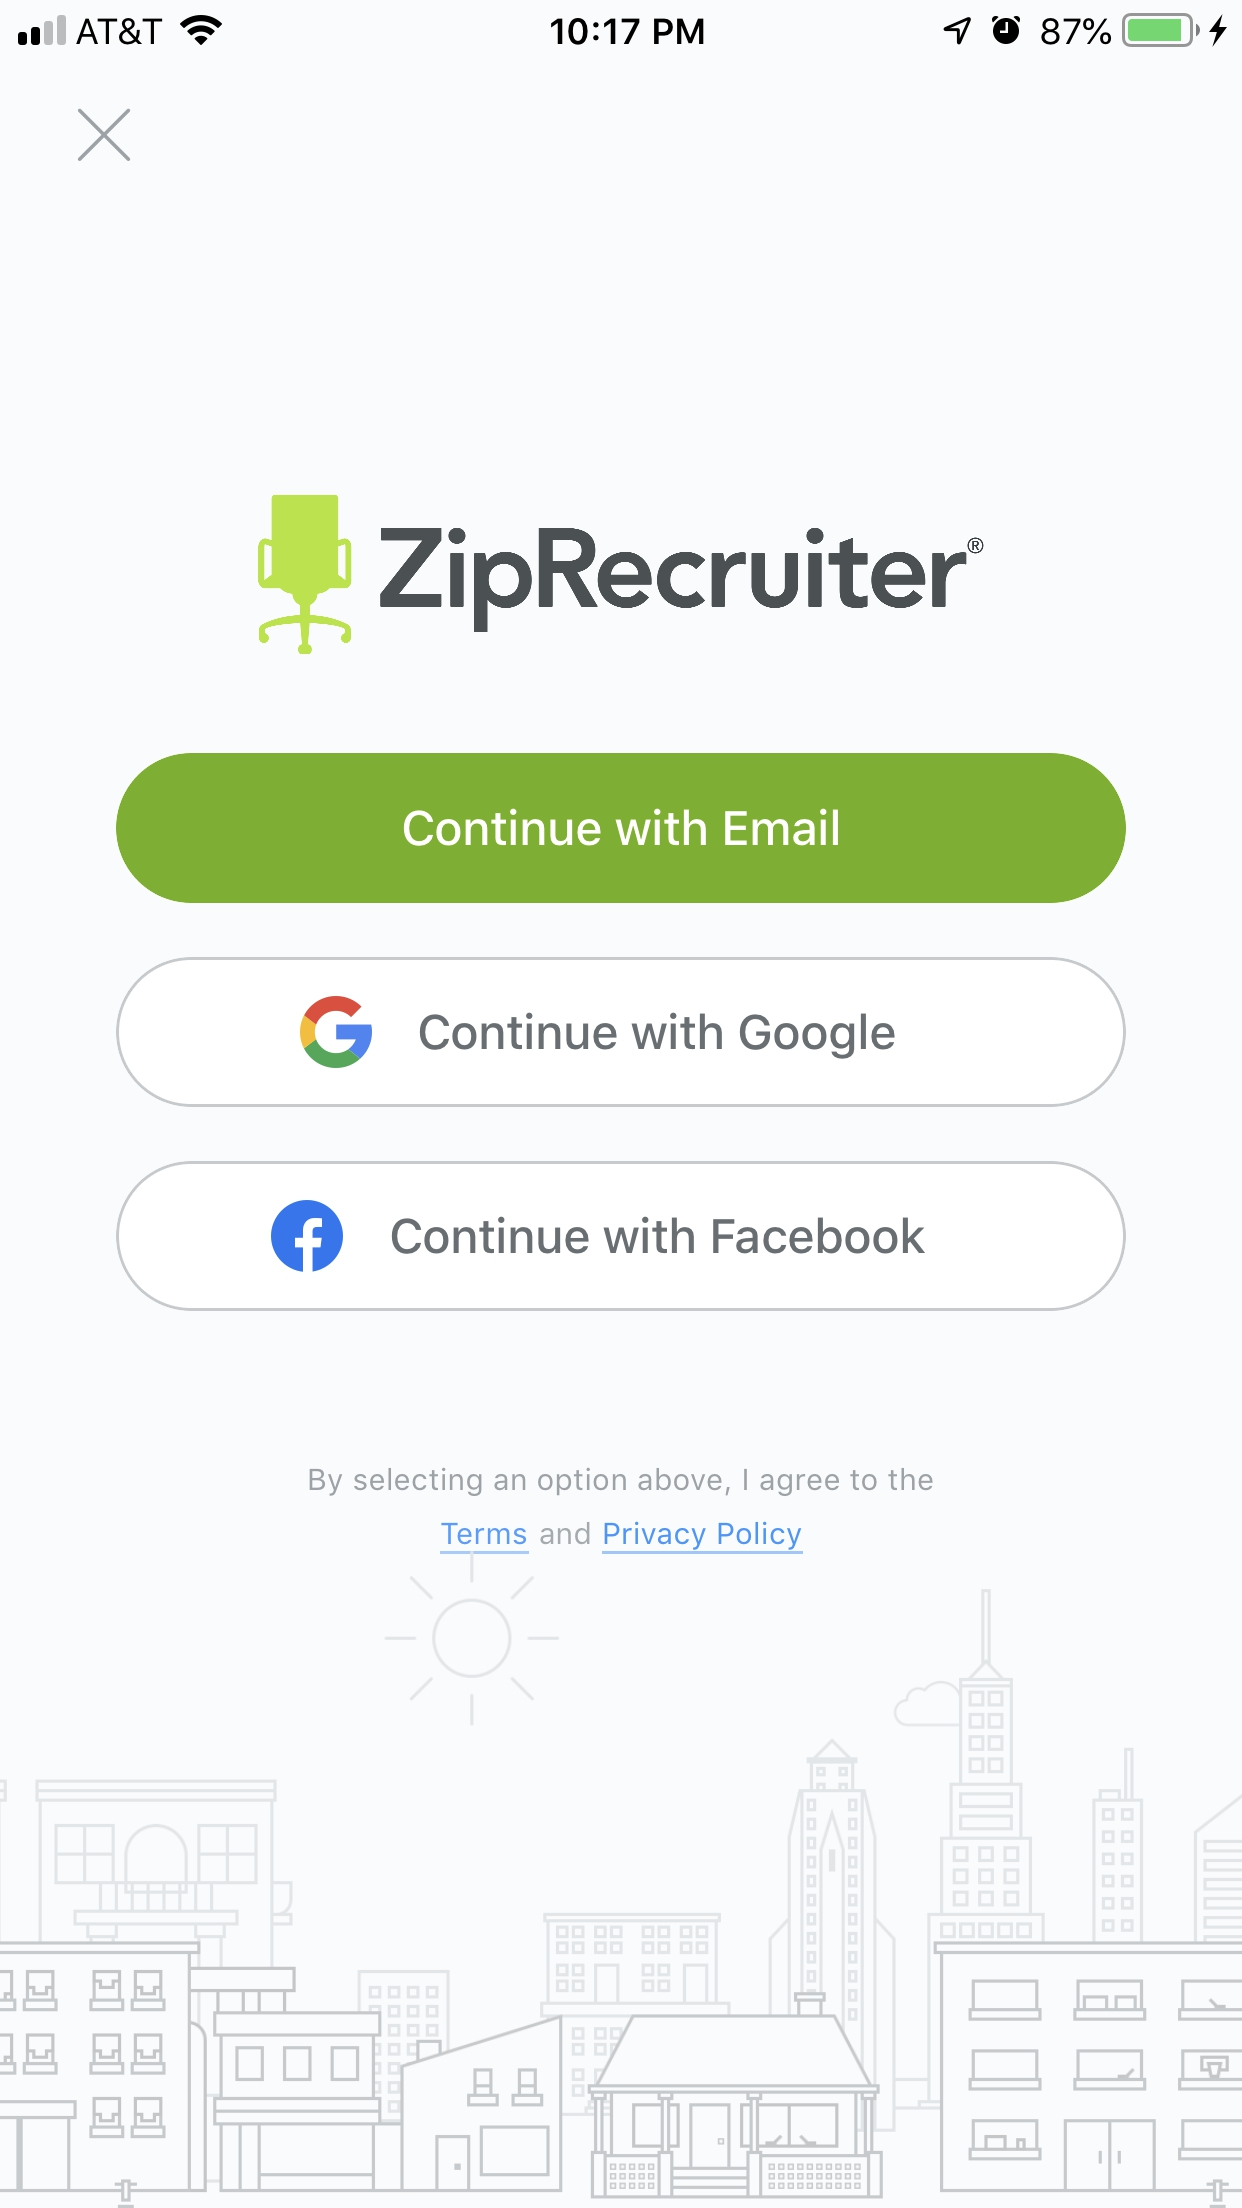Icon: (77, 109, 132, 162)
Image: (2, 1551, 1240, 2206), (256, 494, 353, 657)
Text: (379, 528, 986, 634), (308, 1468, 934, 1556)
TextButton: (115, 754, 1127, 905), (115, 957, 1127, 1109), (115, 1160, 1127, 1312)
UpperTaskBar: (2, 2, 1242, 49)
